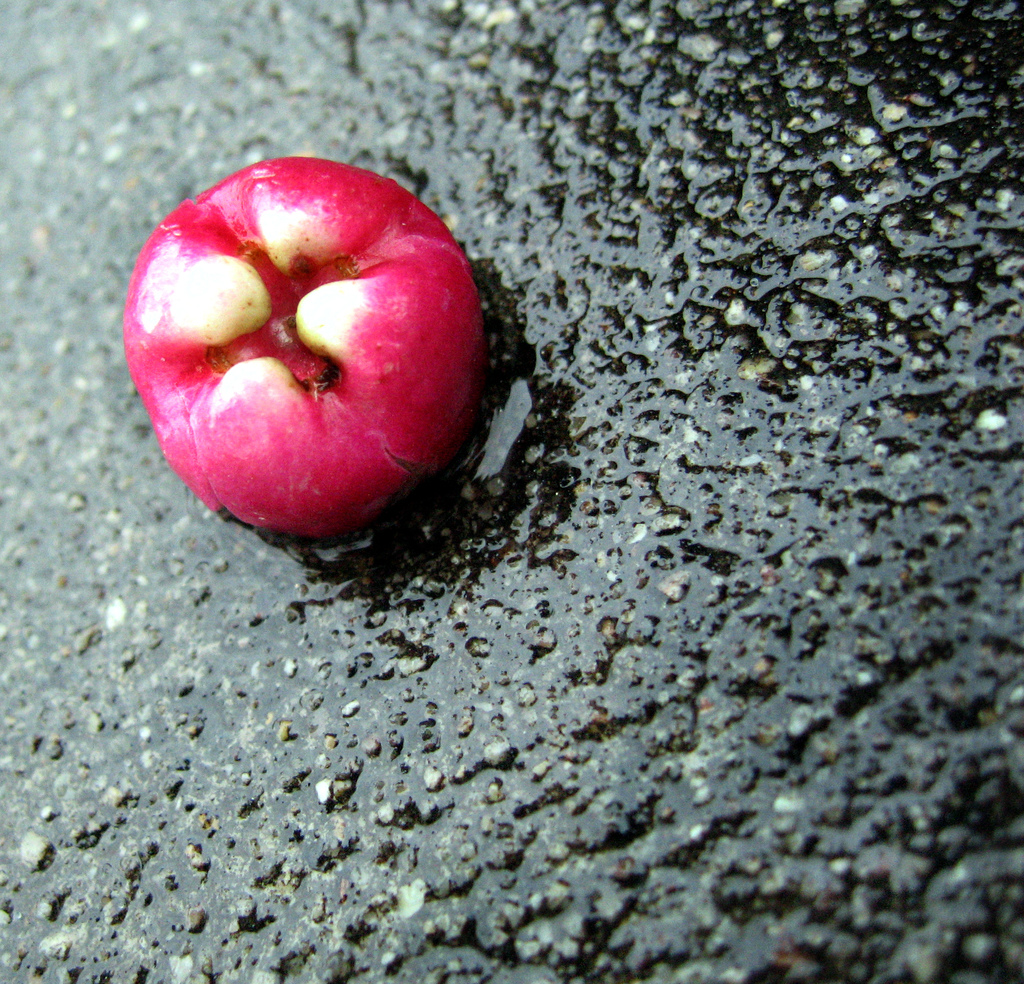Apple: (119, 154, 482, 539)
